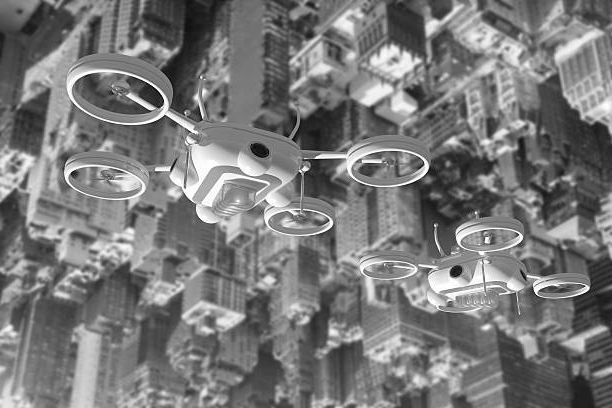Drone: (57, 51, 431, 239), (360, 212, 593, 329)
